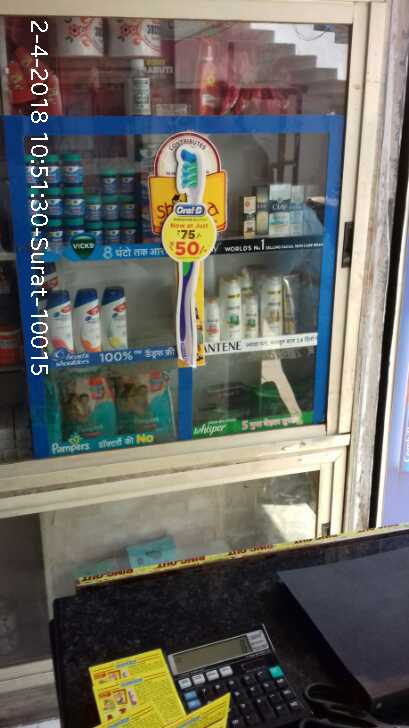vicks: (61, 154, 84, 187), (42, 154, 61, 186), (28, 188, 45, 223), (65, 221, 85, 249), (45, 188, 63, 218), (45, 221, 65, 246), (26, 155, 42, 186), (65, 188, 83, 215), (120, 193, 136, 221), (88, 194, 103, 221), (86, 223, 102, 248), (121, 222, 136, 247), (101, 170, 118, 192), (29, 223, 45, 246), (106, 222, 121, 246), (104, 194, 117, 220), (122, 170, 137, 190)
